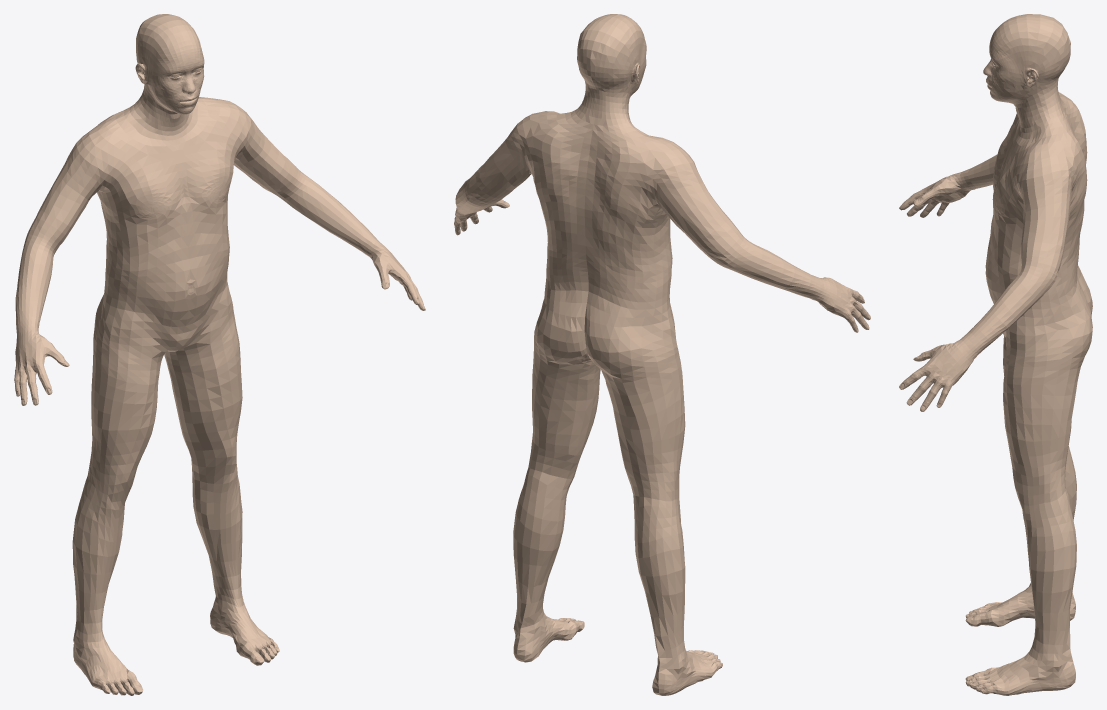
The model's file is male-young-max-medium.glb.
The picture shows the model from 3 angles, left to right: view 1: azimuth 30°, elevation 25°; view 2: azimuth 150°, elevation 25°; view 3: azimuth 270°, elevation 25°; orthographic projection.
Parts seen in each view (by area): view 1: world; view 2: world; view 3: world.
Part boxes in pixels (left/top/right/bottom): world: left=14, top=14, right=425, bottom=695; world: left=454, top=14, right=870, bottom=695; world: left=899, top=14, right=1092, bottom=695.
Bounding box in the file's own units: 1.24 × 1.89 × 0.52.
